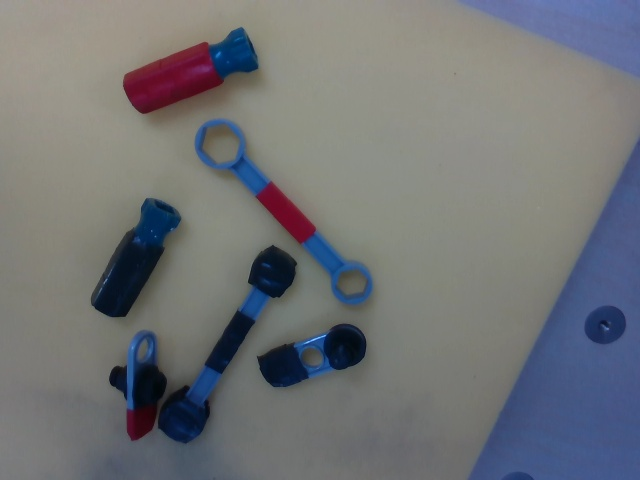part_1_good: (105, 327, 170, 444)
